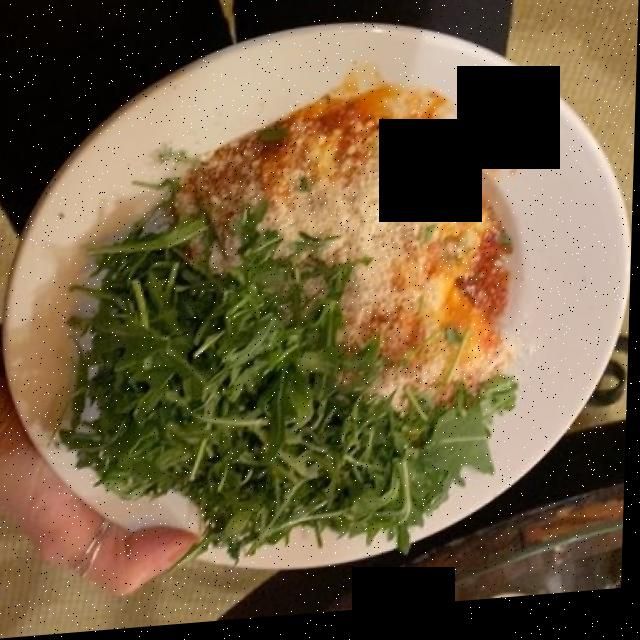cheese: (178, 144, 483, 367)
salad-rocket: (54, 205, 515, 562)
tomato-sauce: (204, 110, 524, 322)
